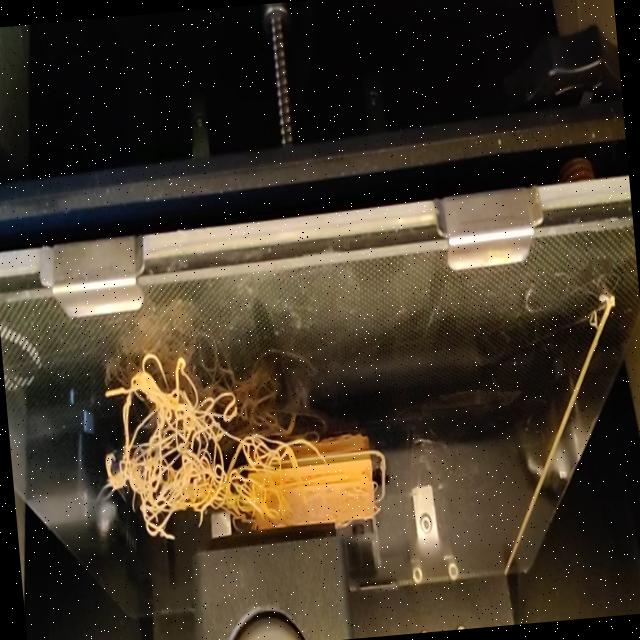spaghetti: (90, 334, 308, 547)
